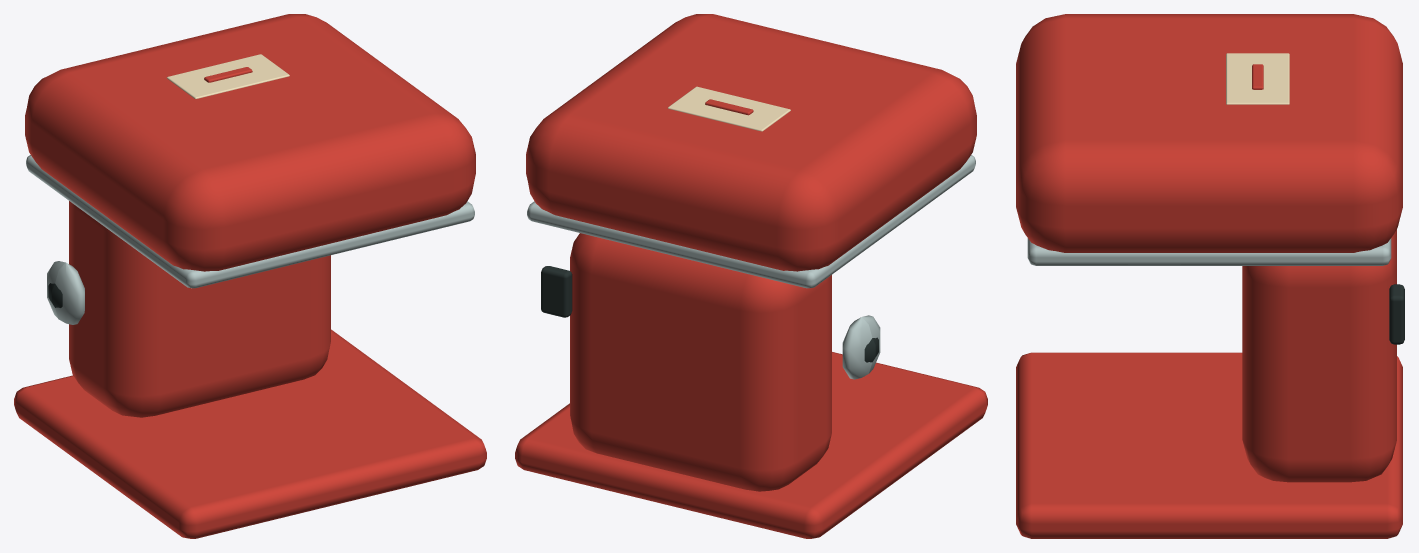
File: working-mixer-light.glb
3 views of the same model, side by side, from view 1: azimuth 30°, elevation 25°; view 2: azimuth 150°, elevation 25°; view 3: azimuth 270°, elevation 25° (orthographic). The views are drawn at different scales.
Parts seen in each view (by area): view 1: red, steel, cream; view 2: red, steel, cream, dark; view 3: red, steel, cream, dark.
Boxes of the visible parts, x1,y1,x2,y2 form: red: (14, 14, 486, 538); steel: (26, 155, 474, 324); cream: (167, 54, 289, 98); red: (515, 14, 987, 538); steel: (527, 155, 975, 379); cream: (668, 86, 790, 131); dark: (541, 266, 878, 362); red: (1016, 14, 1402, 538); steel: (1027, 238, 1391, 265); cream: (1226, 53, 1289, 104); dark: (1389, 284, 1404, 344).
Bounding box in the file's own units: 2.05 × 2.21 × 2.01.
